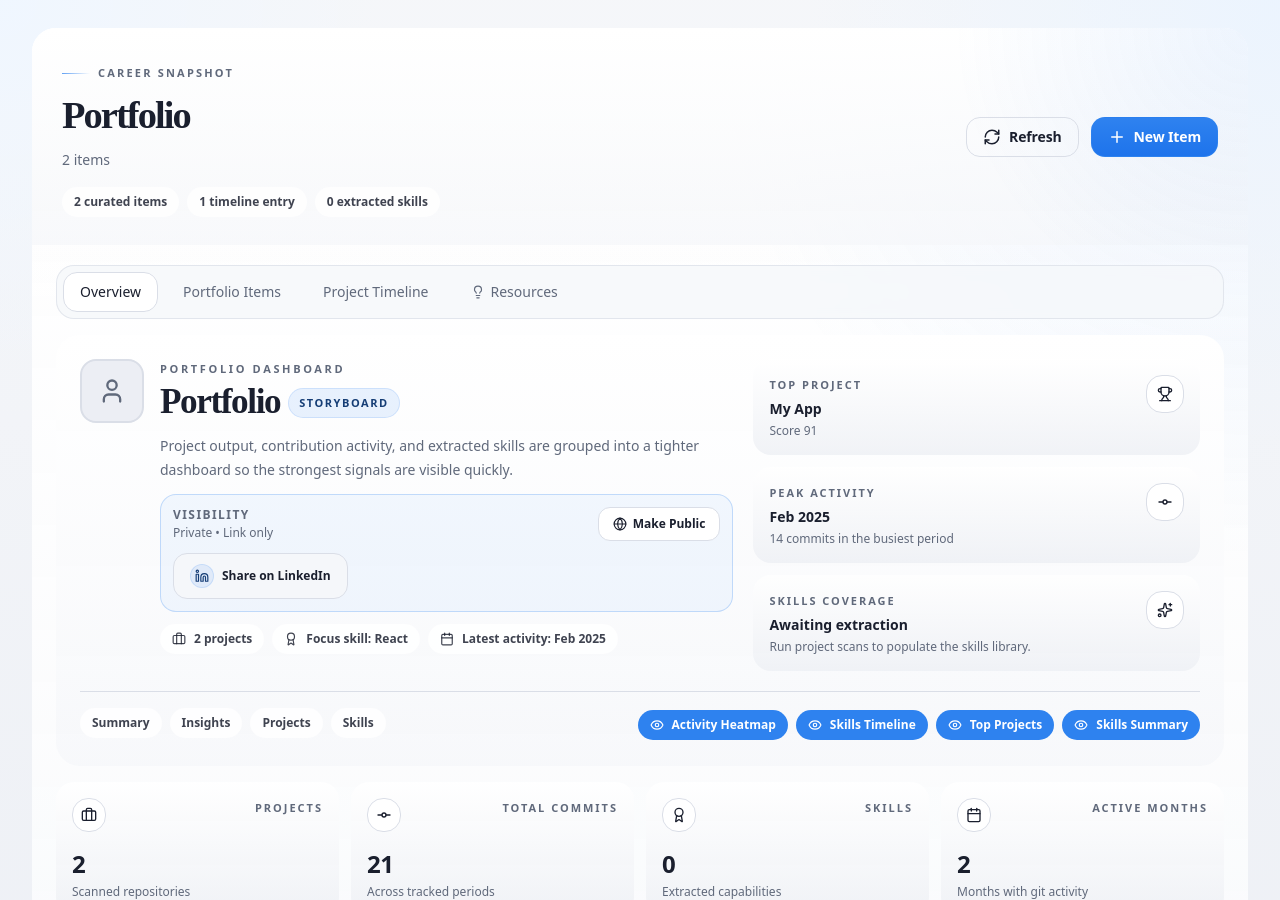
Scenario: PortfolioPage › still renders if skills fetch fails
This screenshot has width=1280, height=900.
What coordinates should you click on to do the following:
click the button "Portfolio Items"
I would click on:
 (232, 292)
Its box is left=166, top=272, right=298, bottom=312.
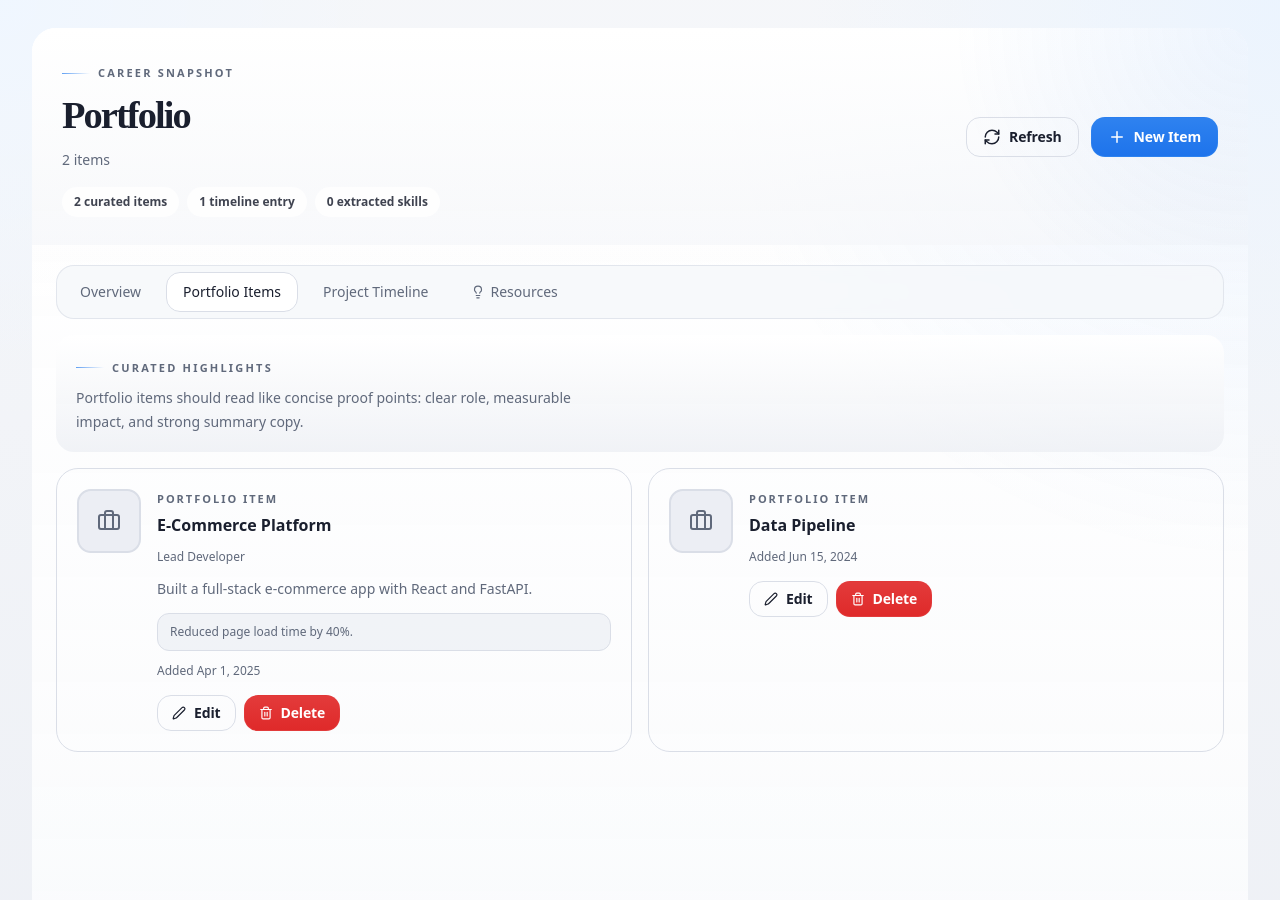
Expected: the text "E-Commerce Platform" is shown, left=157, top=514, right=332, bottom=536
